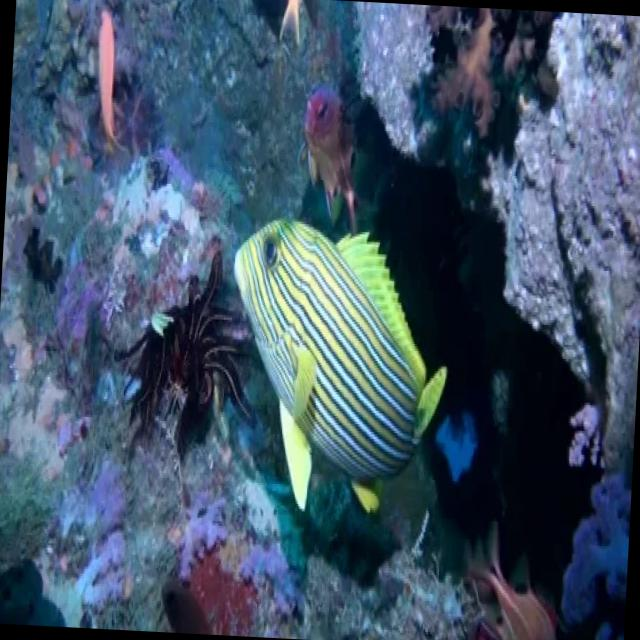RibbonedSweetlips: (220, 212, 454, 520)
